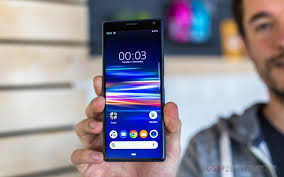sony: (101, 18, 168, 164)
